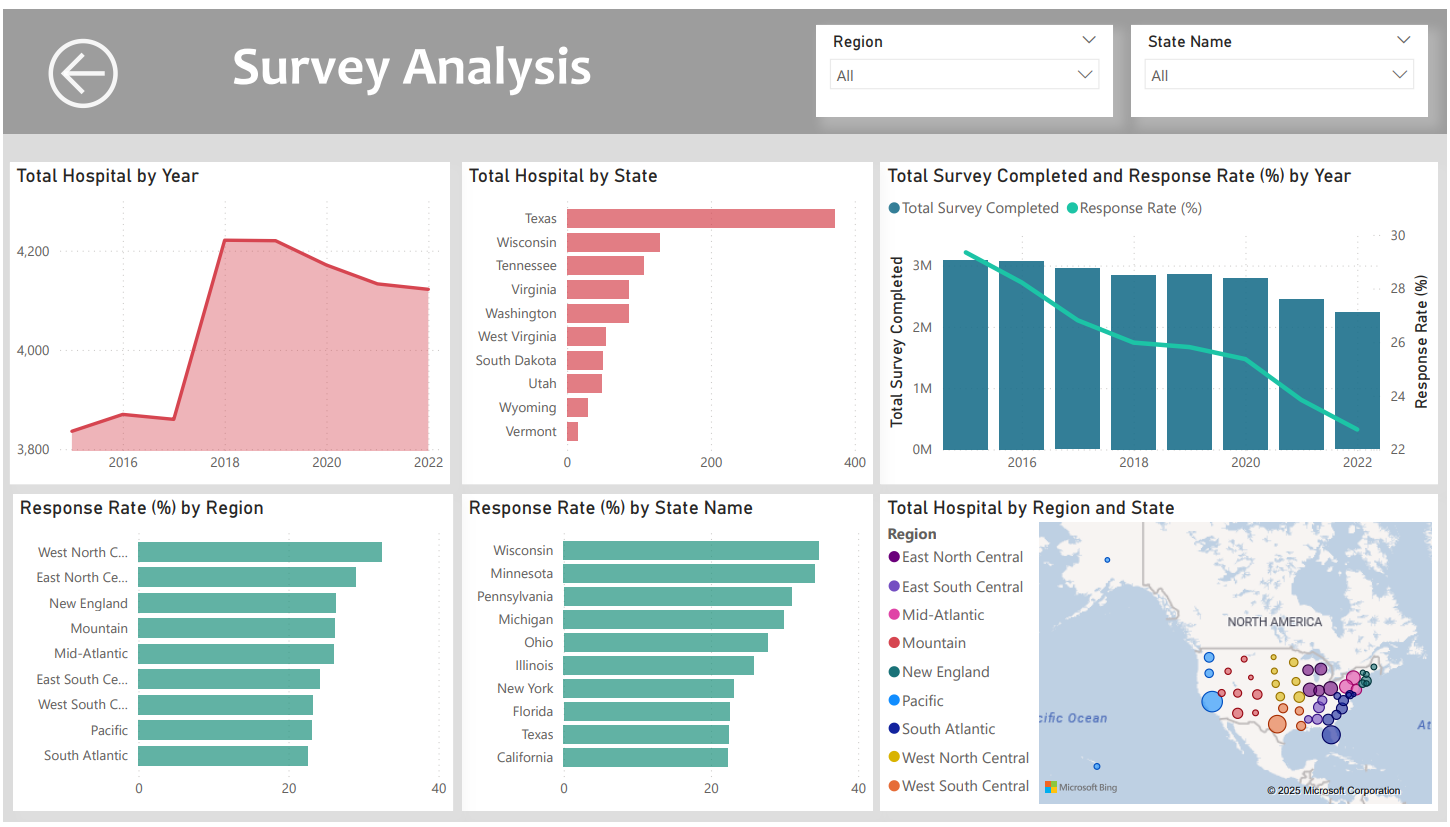

The page's visual inventory and layout, read from the dashboard file:
{"tool":"powerbi","page":{"name":"Survey Analysis","canvas":[1280,720],"ordinal":1},"visuals":[{"type":"lineClusteredColumnComboChart","fields":{"Y":["Sum(responses.Completed Surveys)"],"Y2":["Avg(responses.Response Rate (%))"],"Category":["reports.End Date.Variation.Date Hierarchy.Year"]},"box":[778,135.7,494,285],"z":0},{"type":"clusteredBarChart","title":"Total Hospital by State","fields":{"Category":["states.State Name"],"Y":["Count(responses.Facility ID)"]},"box":[407,135.7,364.4,285],"z":1000},{"type":"areaChart","title":"Total Hospital by Year","fields":{"Category":["reports.End Date.Variation.Date Hierarchy.Year"],"Y":["CountNonNull(responses.Facility ID)"]},"box":[6,135.7,390.1,285],"z":2000},{"type":"barChart","title":"Response Rate (%) by State Name","fields":{"Category":["states.State Name"],"Y":["Avg(responses.Response Rate (%))"]},"box":[407,430,364.3,280],"z":3000},{"type":"barChart","title":"Response Rate (%) by Region","fields":{"Category":["states.Region"],"Y":["Avg(responses.Response Rate (%))"]},"box":[9,430,389.7,280],"z":4000},{"type":"map","title":"Total Hospital by Region and State","fields":{"Series":["states.Region"],"Size":["Sum(responses.Completed Surveys)"],"Category":["states.State Name"]},"box":[778,430,494,280],"z":5000},{"type":"textbox","box":[0,0,1280,109.8],"z":6000},{"type":"slicer","fields":{"Values":["states.Region"]},"box":[721.5,14.5,263,80.8],"z":7000},{"type":"slicer","fields":{"Values":["states.State Name"]},"box":[1000.1,14.5,263,80.8],"z":8000},{"type":"actionButton","box":[32.6,19.3,100.1,76],"z":9000}]}

Visuals, with their boxes in screenshot pixels (x1, y1, x2, y2), scaled from the page's 1280x720 canvas onto the 1450x827 screenshot:
lineClusteredColumnComboChart - Sum(responses.Completed Surveys) x Avg(responses.Response Rate (%)): crop(881, 156, 1441, 483)
"Total Hospital by State" clusteredBarChart: crop(461, 156, 874, 483)
"Total Hospital by Year" areaChart: crop(7, 156, 449, 483)
"Response Rate (%) by State Name" barChart: crop(461, 494, 874, 816)
"Response Rate (%) by Region" barChart: crop(10, 494, 452, 816)
"Total Hospital by Region and State" map: crop(881, 494, 1441, 816)
textbox: crop(0, 0, 1449, 126)
slicer - states.Region: crop(817, 17, 1115, 109)
slicer - states.State Name: crop(1133, 17, 1431, 109)
actionButton: crop(37, 22, 150, 109)
